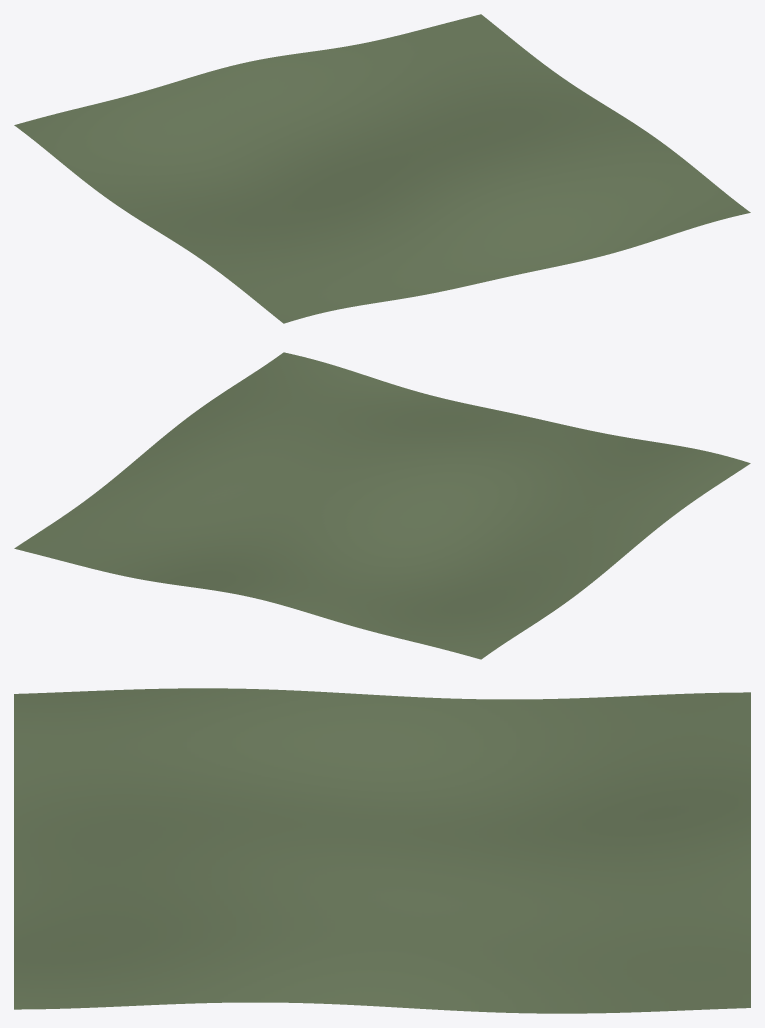
File: amber_rolling_fields.obj
The picture shows the model from 3 angles, top to bottom: view 1: azimuth 30°, elevation 25°; view 2: azimuth 150°, elevation 25°; view 3: azimuth 270°, elevation 25°; orthographic projection. The views are drawn at different scales.
Bounding box in the file's own units: 179 × 7.37 × 179.
